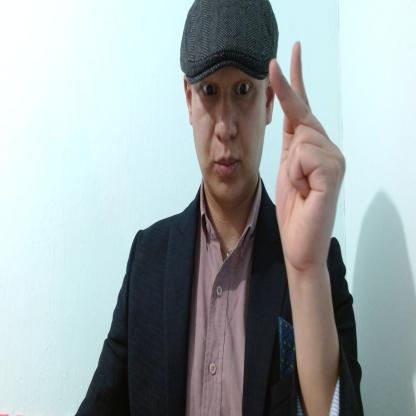P: (266, 38, 348, 270)
